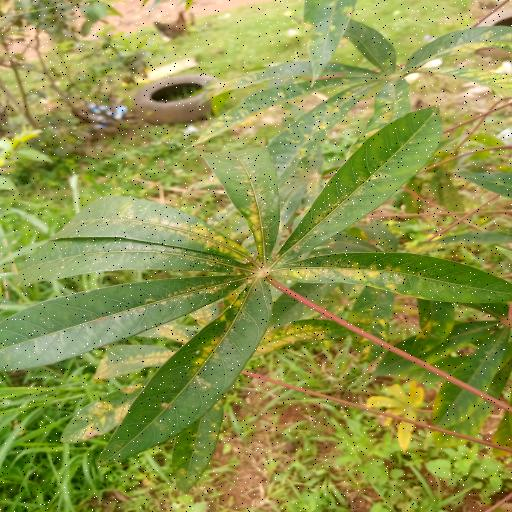Cassava_Mosaic: (2, 102, 512, 449)
